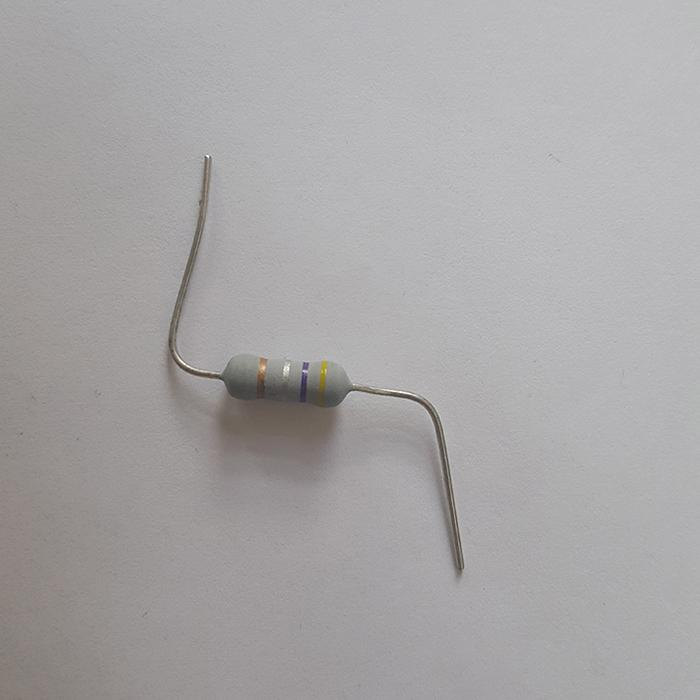resistor: (222, 353, 355, 407)
